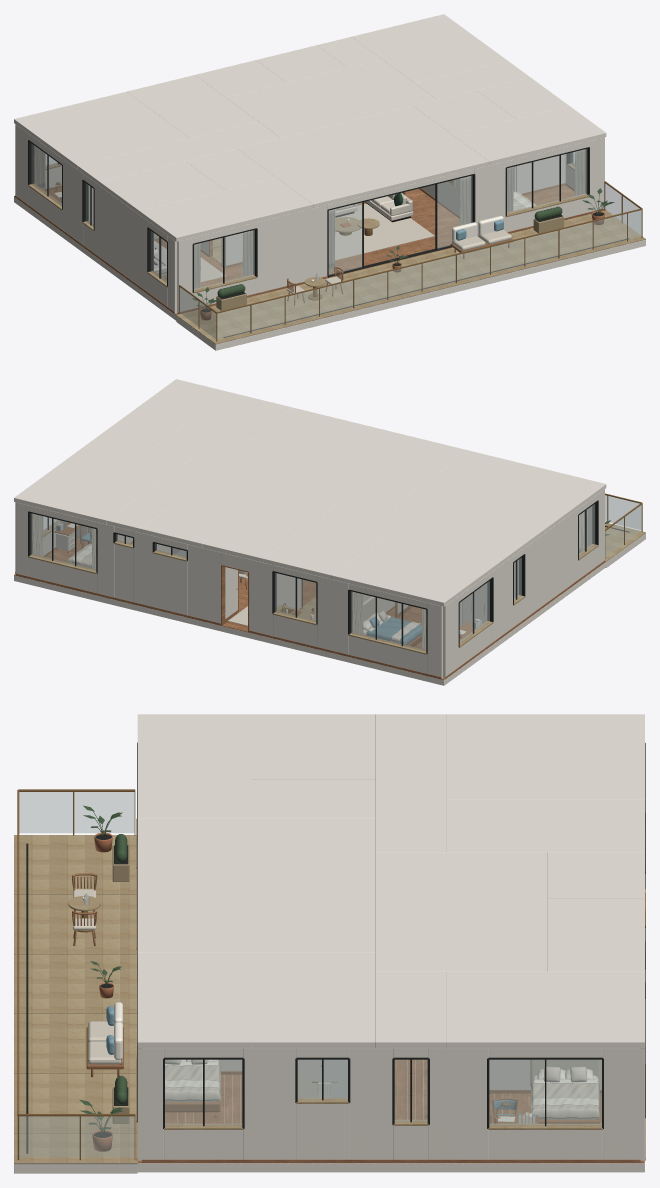
The model's file is 云澜汇_03四房两厅.glb.
The picture shows the model from 3 angles, top to bottom: view 1: azimuth 30°, elevation 25°; view 2: azimuth 150°, elevation 25°; view 3: azimuth 270°, elevation 25°; orthographic projection. The views are drawn at different scales.
Visible parts, largest first — view 1: Ceiling living0, Balcony safety glass.001, Ceiling dining0, Ceiling bed_northwest0, Ceiling bed_northeast0, Ceiling bed_primary0, Wall outer_south.001, Ceiling bed_guest0, Ceiling kitchen0, Ceiling gallery_west0, Floor individually jointed oak, Wall outer_west.001 (+43 smaller); view 2: Ceiling living0, Ceiling dining0, Ceiling bed_northwest0, Ceiling bed_northeast0, Ceiling bed_primary0, Ceiling kitchen0, Ceiling bed_guest0, Ceiling gallery_west0, Wall outer_west.001, Structure main floor slab, Ceiling bed_primary1, Ceiling bed_guest1 (+46 smaller); view 3: Ceiling living0, Ceiling dining0, Ceiling bed_northwest0, Ceiling bed_northeast0, Ceiling bed_primary0, Ceiling bed_guest0, Ceiling kitchen0, Ceiling gallery_west0, Ceiling bed_primary1, Wall outer_east.003, Ceiling bed_guest1, Ceiling bath_guest0 (+38 smaller).
Boxes of the visible parts, x1,y1,x2,y2 form: Ceiling living0: [237, 106, 488, 208]; Balcony safety glass.001: [217, 210, 641, 339]; Ceiling dining0: [226, 59, 436, 137]; Ceiling bed_northwest0: [14, 91, 189, 169]; Ceiling bed_northeast0: [351, 14, 506, 82]; Ceiling bed_primary0: [139, 177, 312, 241]; Wall outer_south.001: [257, 205, 327, 292]; Ceiling bed_guest0: [453, 106, 606, 165]; Ceiling kitchen0: [127, 75, 257, 137]; Ceiling gallery_west0: [77, 121, 280, 185]; Floor individually jointed oak: [14, 185, 605, 314]; Wall outer_west.001: [94, 182, 147, 291]; Ceiling living0: [217, 407, 468, 506]; Ceiling dining0: [138, 457, 348, 535]; Ceiling bed_northwest0: [331, 529, 507, 606]; Ceiling bed_northeast0: [14, 451, 169, 524]; Ceiling bed_primary0: [433, 450, 606, 514]; Ceiling kitchen0: [263, 512, 394, 579]; Ceiling bed_guest0: [140, 379, 292, 434]; Ceiling gallery_west0: [327, 495, 530, 559]; Wall outer_west.001: [524, 509, 578, 618]; Structure main floor slab: [14, 562, 606, 685]; Ceiling bed_primary1: [445, 490, 569, 543]; Ceiling bed_guest1: [154, 419, 256, 463]; Ceiling living0: [137, 818, 375, 952]; Ceiling dining0: [375, 852, 547, 971]; Ceiling bed_northwest0: [446, 714, 644, 799]; Ceiling bed_northeast0: [446, 971, 644, 1048]; Ceiling bed_primary0: [137, 714, 252, 818]; Ceiling bed_guest0: [137, 953, 252, 1048]; Ceiling kitchen0: [446, 800, 644, 852]; Ceiling gallery_west0: [375, 714, 446, 852]; Ceiling bed_primary1: [252, 714, 375, 779]; Wall outer_east.003: [428, 1048, 488, 1159]; Ceiling bed_guest1: [252, 953, 375, 1001]; Ceiling bath_guest0: [252, 1001, 375, 1048].
Bounding box in the file's own units: 17.65 × 3.29 × 14.32.
40 materials, 7 textured.
